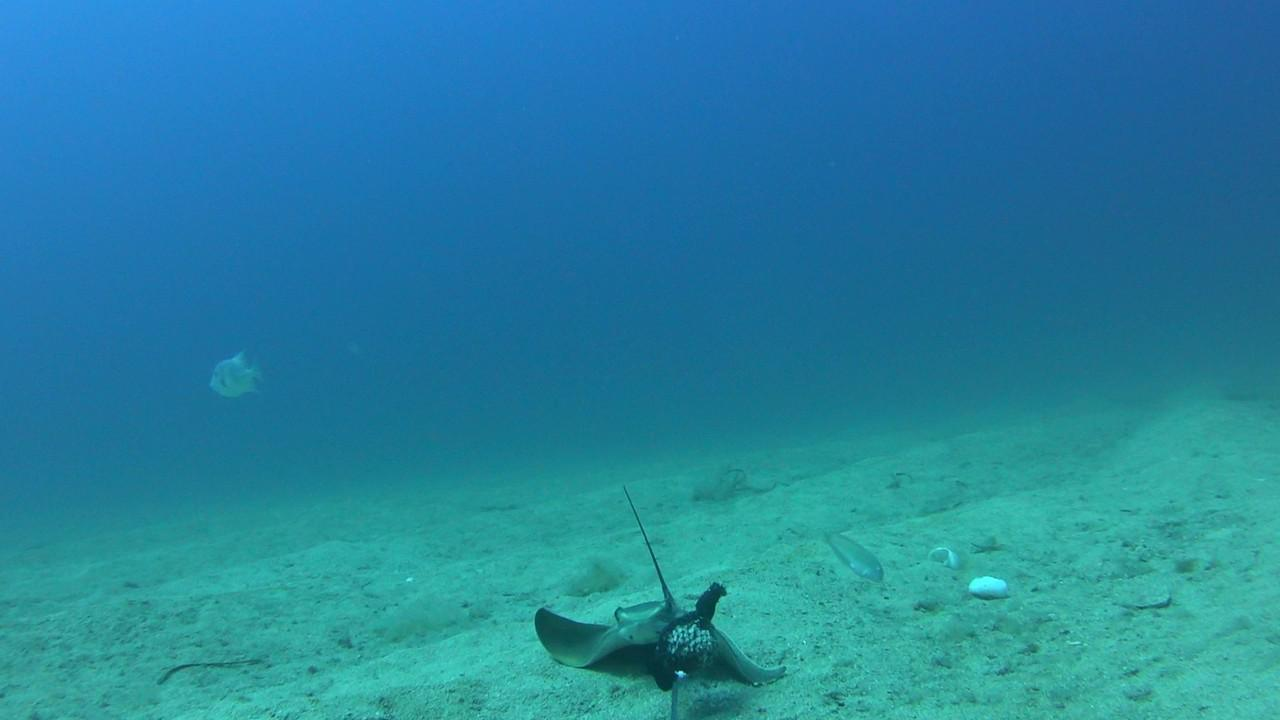balistes: (207, 347, 268, 403)
myliobatis: (521, 485, 799, 690)
raor: (811, 524, 885, 588)
